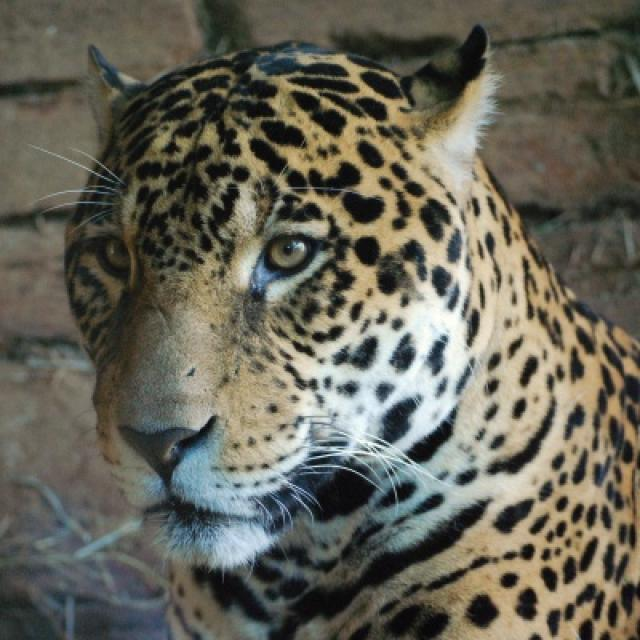Jaguar: (62, 24, 638, 638)
